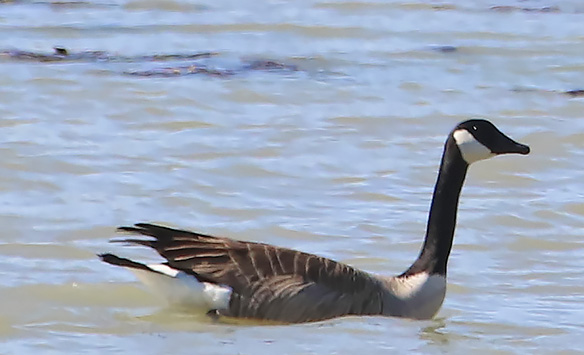goose: (96, 118, 533, 327)
